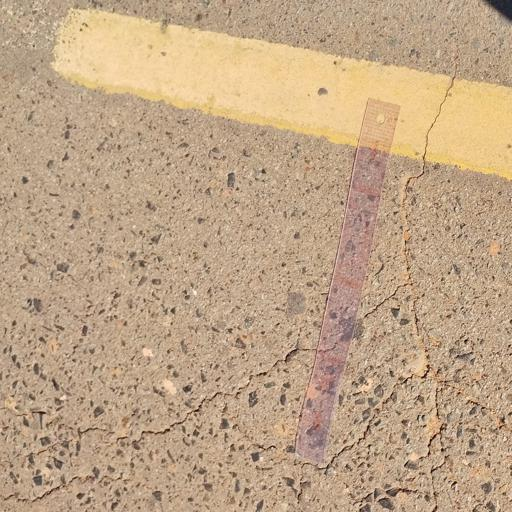GRIETA: (403, 65, 457, 278)
PIEL DE COCODRILO: (0, 276, 511, 511)
